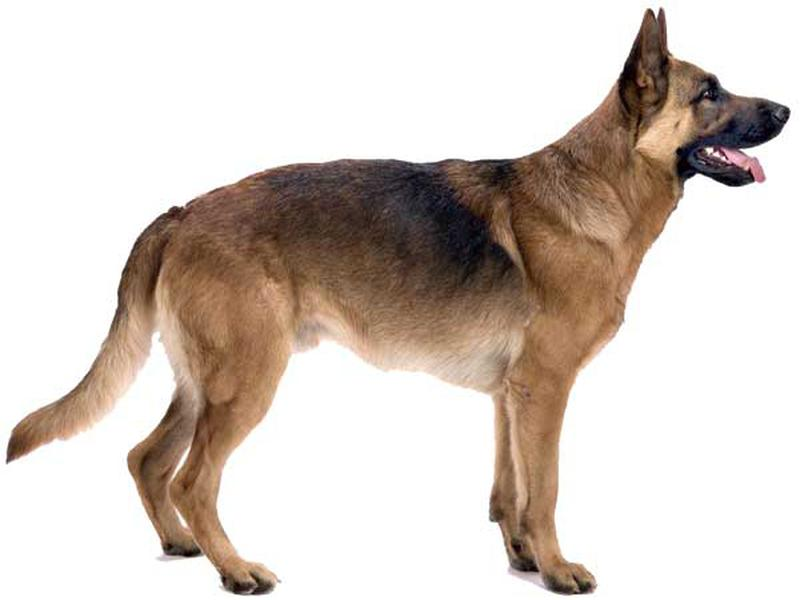dog_stand: (12, 9, 791, 600)
